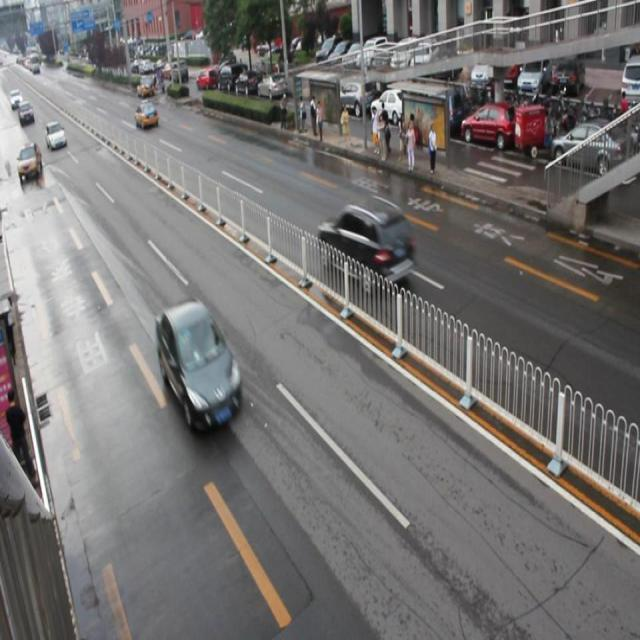car: (155, 297, 241, 433), (315, 198, 414, 286)
